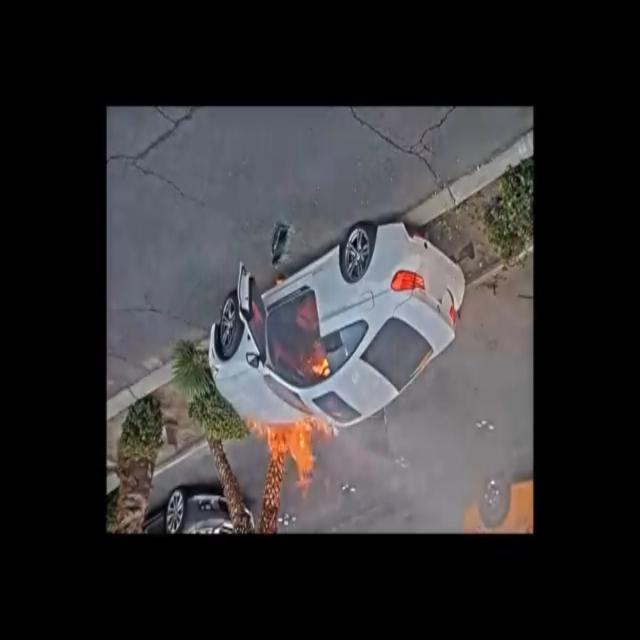fire: (257, 414, 337, 511), (306, 349, 335, 384)
